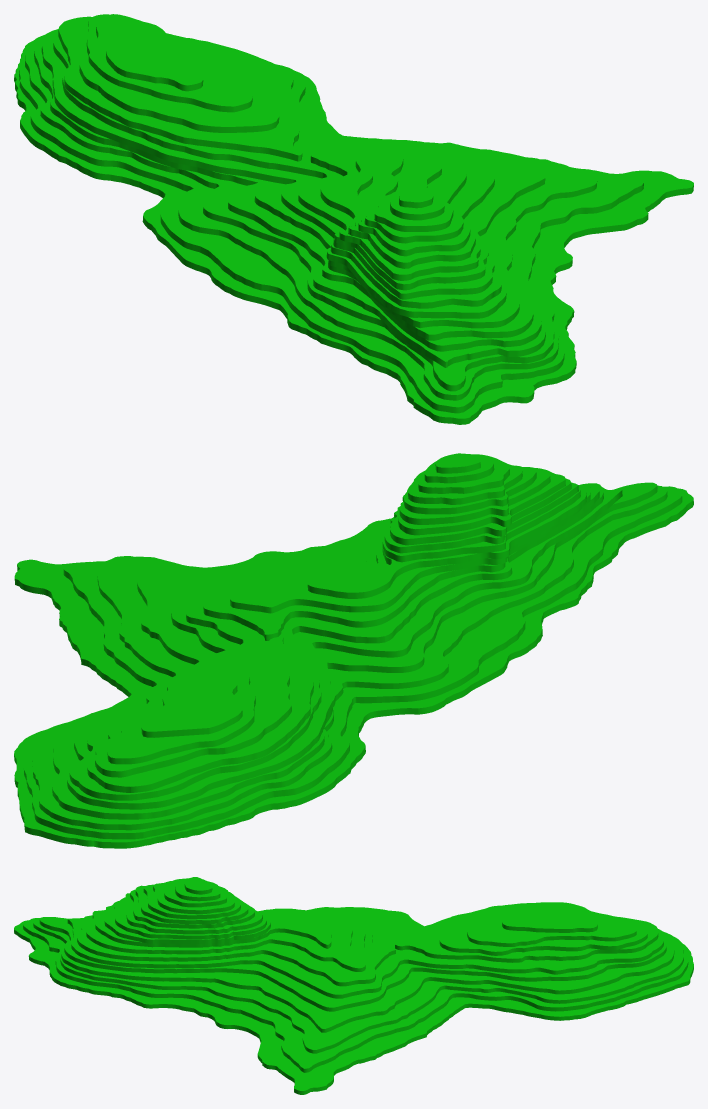
File: pao_de_acucar-final.obj
The picture shows the model from 3 angles, top to bottom: view 1: azimuth 30°, elevation 25°; view 2: azimuth 150°, elevation 25°; view 3: azimuth 270°, elevation 25°; orthographic projection. The views are drawn at different scales.
Visible parts, largest first — view 1: Curve, Curve.001, Curve.002, Curve.003, Curve.022, Curve.019, Curve.021, Curve.004, Curve.020, Curve.005, Curve.008, Curve.007 (+11 smaller); view 2: Curve, Curve.001, Curve.002, Curve.003, Curve.022, Curve.019, Curve.021, Curve.020, Curve.004, Curve.005, Curve.008, Curve.007 (+11 smaller); view 3: Curve, Curve.001, Curve.003, Curve.002, Curve.019, Curve.022, Curve.020, Curve.021, Curve.008, Curve.004, Curve.005, Curve.006 (+11 smaller).
Part boxes in pixels (<box>): Curve: <box>14,48,693,424</box>; Curve.001: <box>19,41,643,413</box>; Curve.002: <box>25,29,597,400</box>; Curve.003: <box>34,30,554,391</box>; Curve.022: <box>41,30,545,367</box>; Curve.019: <box>53,31,541,351</box>; Curve.021: <box>58,16,302,161</box>; Curve.004: <box>79,14,279,132</box>; Curve.020: <box>281,149,533,340</box>; Curve.005: <box>88,14,252,112</box>; Curve.008: <box>298,152,519,328</box>; Curve.007: <box>320,174,506,318</box>; Curve: <box>14,483,693,848</box>; Curve.001: <box>23,486,682,839</box>; Curve.002: <box>32,485,667,830</box>; Curve.003: <box>52,482,657,819</box>; Curve.022: <box>67,487,622,809</box>; Curve.019: <box>69,485,603,800</box>; Curve.021: <box>87,636,313,792</box>; Curve.020: <box>203,486,599,640</box>; Curve.004: <box>95,654,291,777</box>; Curve.005: <box>107,664,255,764</box>; Curve.008: <box>230,468,590,613</box>; Curve.007: <box>307,468,586,598</box>; Curve: <box>14,907,693,1094</box>; Curve.001: <box>23,907,688,1072</box>; Curve.003: <box>39,913,674,1032</box>; Curve.002: <box>33,909,683,1053</box>; Curve.019: <box>71,915,663,998</box>; Curve.022: <box>64,916,666,1011</box>; Curve.020: <box>77,910,395,986</box>; Curve.021: <box>395,902,658,962</box>; Curve.008: <box>86,905,365,971</box>; Curve.004: <box>439,903,647,955</box>; Curve.005: <box>467,905,636,946</box>; Curve.006: <box>502,905,597,932</box>.
Size of the model in its own units: 1.71 by 0.4547 by 3.
